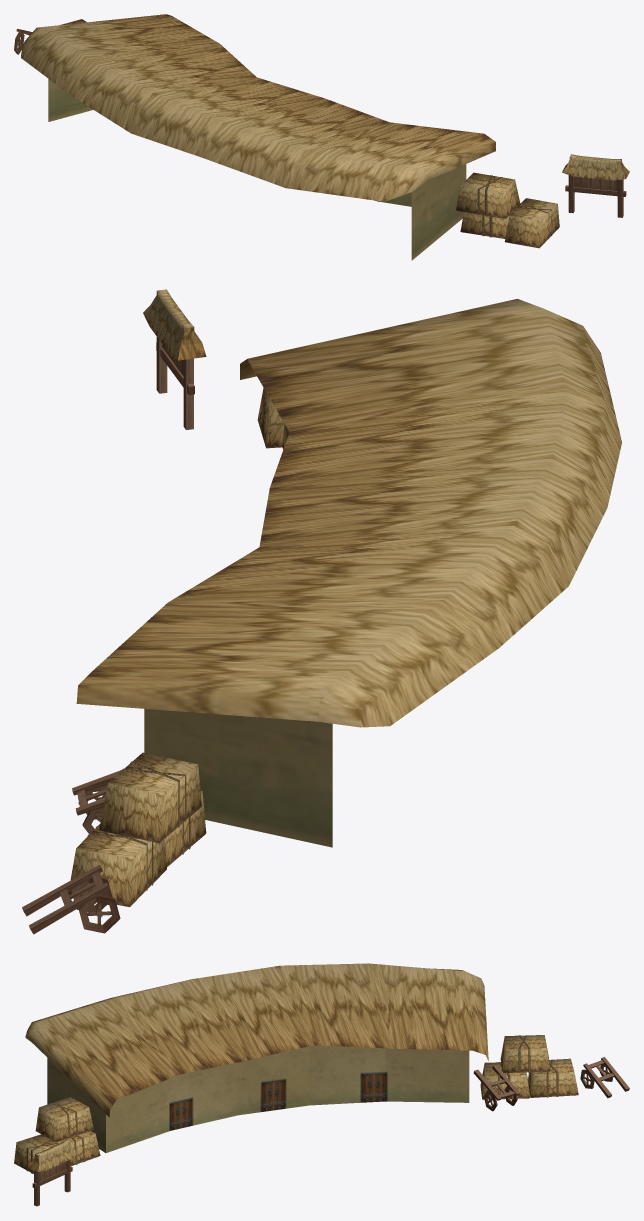
Rendered from Area_13_28.fbx.
3 views of the same model, one above another, from view 1: azimuth 30°, elevation 25°; view 2: azimuth 150°, elevation 25°; view 3: azimuth 270°, elevation 25° (orthographic). The views are drawn at different scales.
Visible parts, largest first — view 1: Area_13_28; view 2: Area_13_28; view 3: Area_13_28.
Part boxes in pixels (x1,y1,x2,y2): Area_13_28: [14, 14, 629, 260]; Area_13_28: [22, 289, 621, 934]; Area_13_28: [14, 963, 629, 1206].
Bounding box in the file's own units: 2017 × 541 × 3168.
